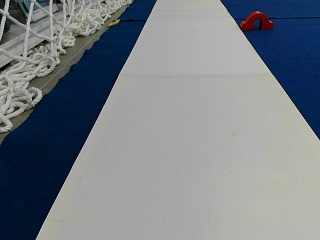bridge: (240, 11, 273, 28)
